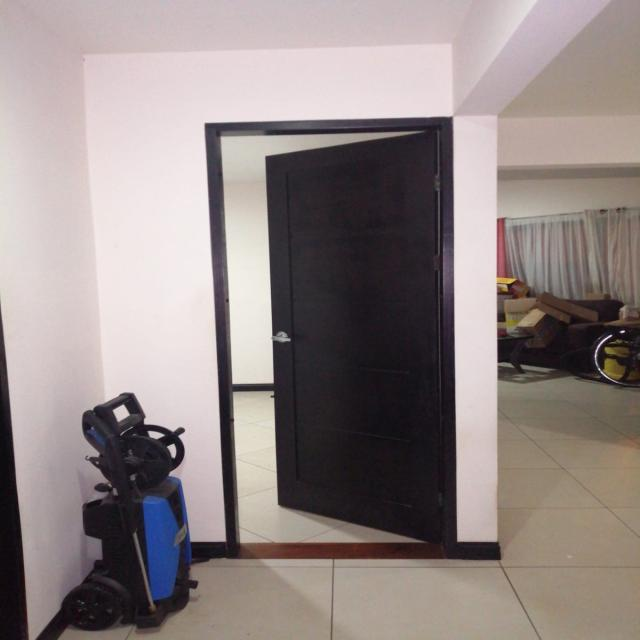OpenDoor: (213, 114, 468, 558)
